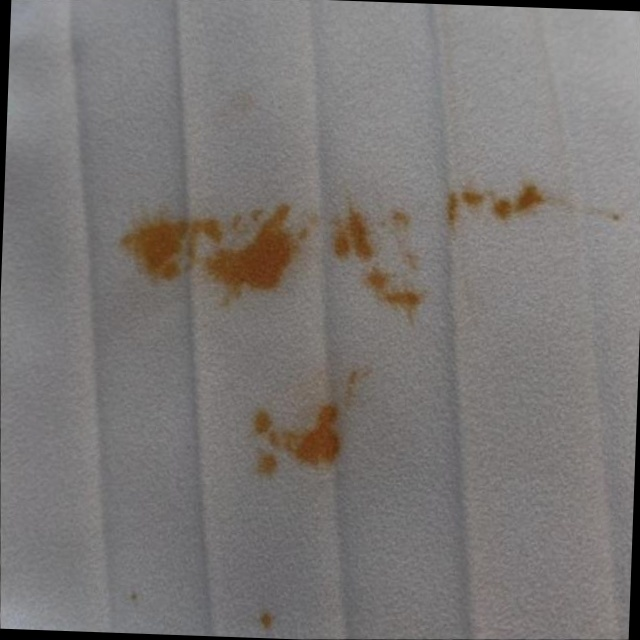kimchi: (109, 157, 629, 327), (239, 350, 378, 503), (247, 603, 284, 638), (119, 581, 148, 609)
